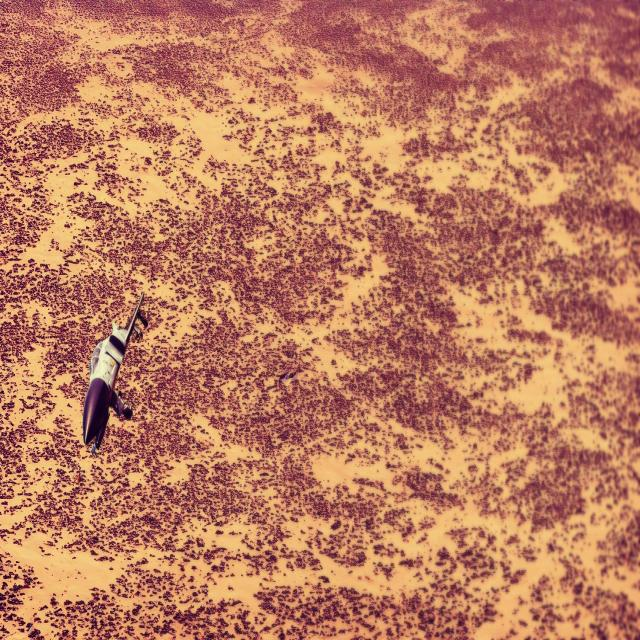airplane: (82, 291, 148, 454)
